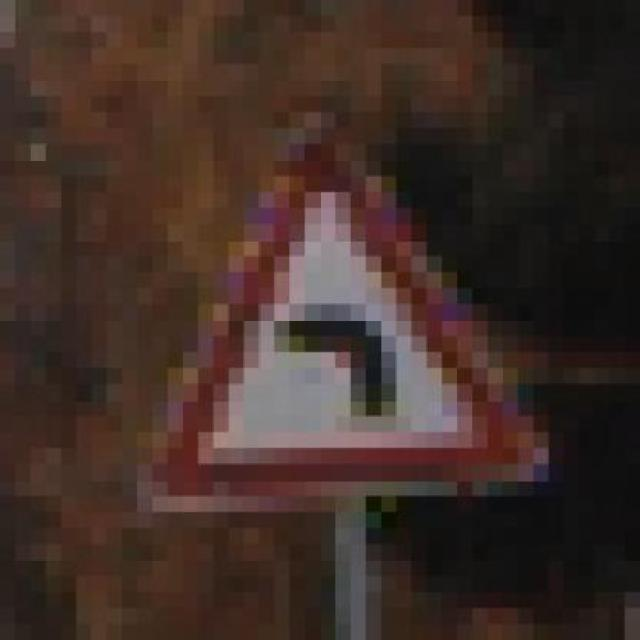Dangerous Left Curve Ahead: (92, 112, 579, 512)
